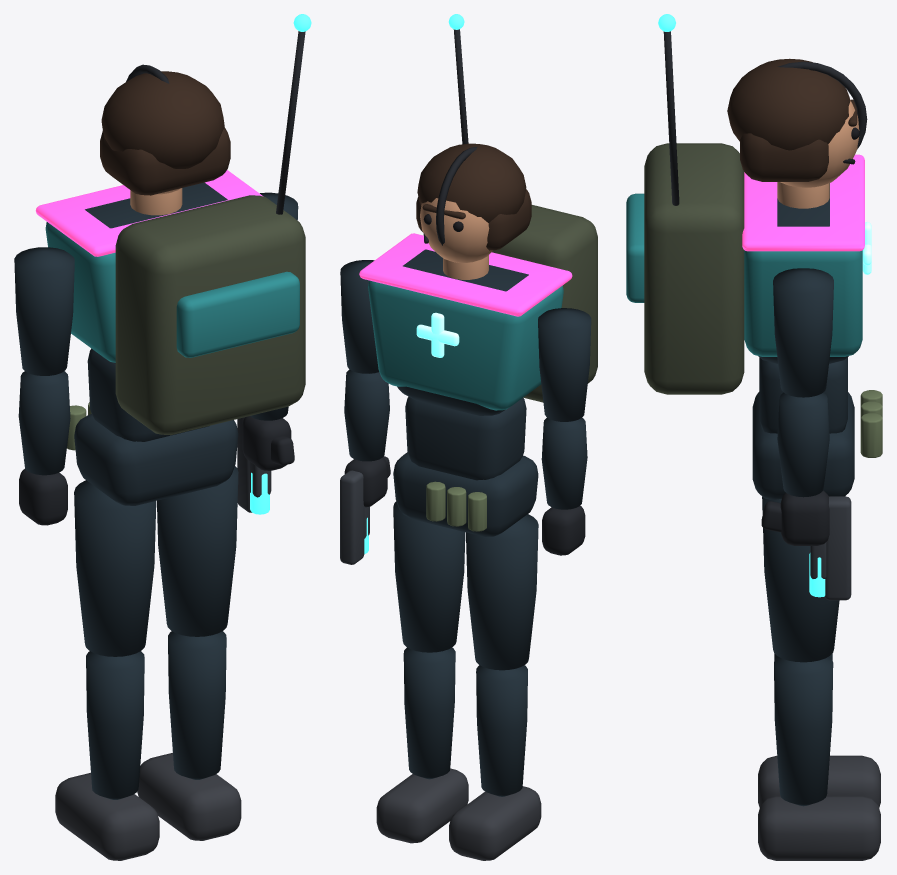
Rendered from mora.glb.
3 views of the same model, side by side, from view 1: azimuth 30°, elevation 25°; view 2: azimuth 150°, elevation 25°; view 3: azimuth 270°, elevation 25° (orthographic). The views are drawn at different scales.
Visible parts, largest first — view 1: Pack, Thigh0, Thigh1, Pelvis, HairCap, Shin0, Shin1, PackCase, UpperArm0, Boot0, Boot1, Vest (+11 smaller); view 2: Vest, Thigh0, Thigh1, Waist, VestTrim, Pack, Shin1, Shin0, Pelvis, HairCap, UpperArm0, Boot0 (+18 smaller); view 3: Pack, HairCap, Shin1, Vest, Boot1, UpperArm1, Thigh1, VestTrim, Forearm1, Pelvis, Bob, Boot0 (+12 smaller).
Boxes of the visible parts, bbox=[...] form: Pack: bbox=[115, 195, 305, 435]; Thigh0: bbox=[74, 480, 156, 656]; Thigh1: bbox=[157, 466, 238, 636]; Pelvis: bbox=[74, 414, 238, 505]; HairCap: bbox=[101, 71, 224, 168]; Shin0: bbox=[86, 651, 144, 799]; Shin1: bbox=[168, 631, 226, 779]; PackCase: bbox=[176, 271, 299, 357]; UpperArm0: bbox=[14, 247, 74, 375]; Boot0: bbox=[55, 772, 159, 860]; Boot1: bbox=[137, 752, 241, 840]; Vest: bbox=[45, 222, 115, 362]; Vest: bbox=[368, 280, 563, 410]; Thigh0: bbox=[466, 514, 538, 670]; Thigh1: bbox=[393, 501, 465, 652]; Waist: bbox=[405, 396, 526, 480]; VestTrim: bbox=[359, 233, 572, 316]; Pack: bbox=[492, 205, 597, 402]; Shin1: bbox=[403, 647, 455, 779]; Shin0: bbox=[476, 665, 527, 796]; Pelvis: bbox=[393, 452, 538, 536]; HairCap: bbox=[417, 143, 526, 222]; UpperArm0: bbox=[538, 308, 591, 421]; Boot0: bbox=[449, 786, 541, 860]; Pack: bbox=[644, 143, 744, 394]; HairCap: bbox=[727, 58, 850, 150]; Shin1: bbox=[774, 656, 833, 806]; Vest: bbox=[744, 250, 862, 356]; Boot1: bbox=[758, 796, 880, 860]; UpperArm1: bbox=[773, 268, 833, 397]; Thigh1: bbox=[762, 496, 839, 662]; VestTrim: bbox=[742, 154, 864, 251]; Forearm1: bbox=[777, 392, 829, 497]; Pelvis: bbox=[752, 392, 854, 499]; Bob: bbox=[740, 133, 828, 181]; Boot0: bbox=[758, 755, 880, 807].
Size of the model in its own units: 0.7044 by 2.08 by 0.5642.
